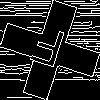F: (25, 25, 68, 77)
